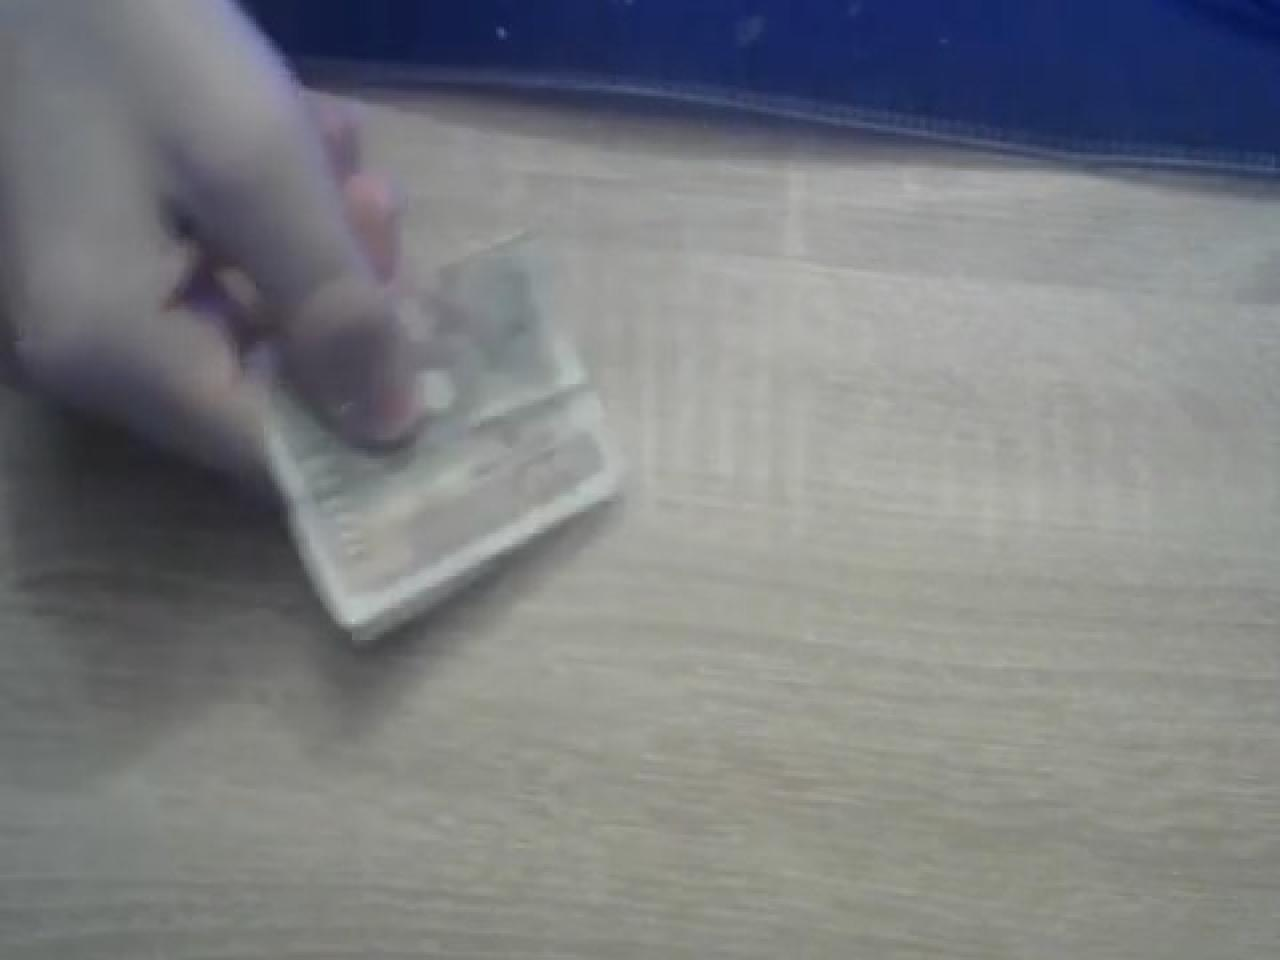10leva: (227, 219, 627, 645)
